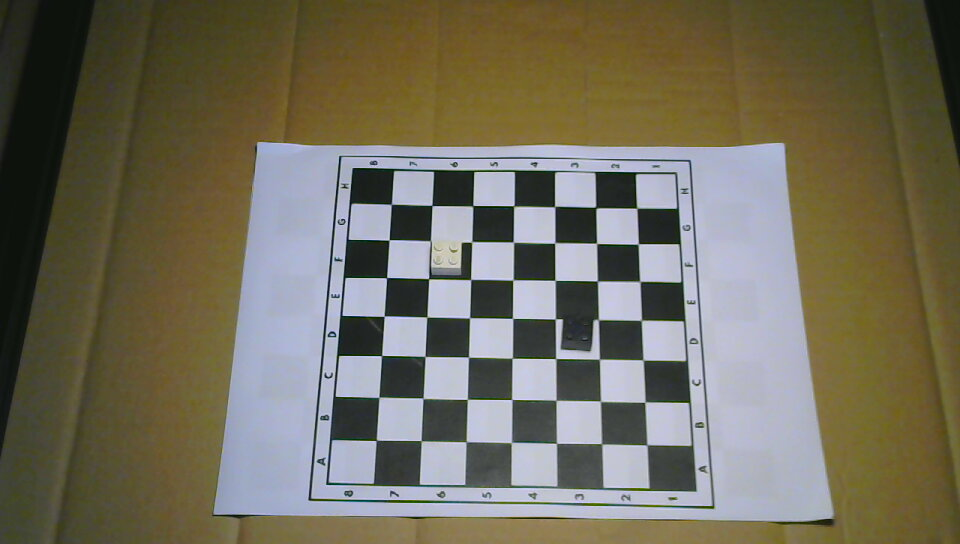bp: (560, 314, 594, 352)
wp: (430, 241, 463, 276)
